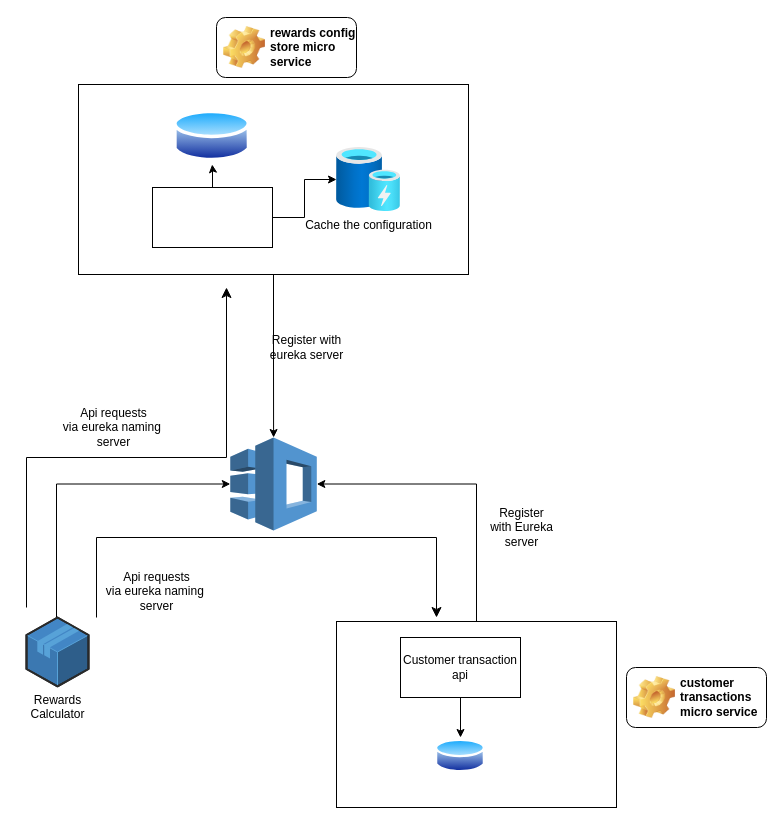
This 784x825 diagram has some shape labels left out. Here are the shapes that lost their labels. From the top down, the centre of each, then its label:
At (x=212, y=217): "Rewards configuration store api".
At (x=273, y=483): "Service discovery Using Eureka server".
